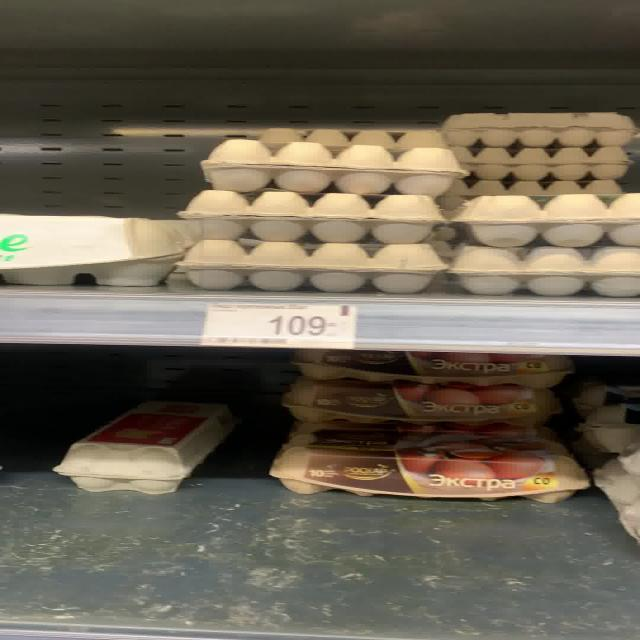egg box: (270, 428, 584, 500), (282, 378, 558, 430)
